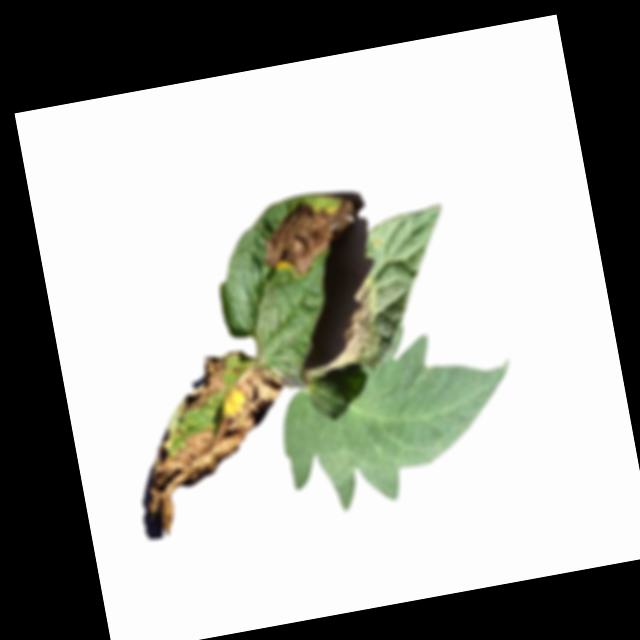Late_blight: (118, 343, 305, 538), (290, 262, 386, 376), (252, 194, 366, 282)
